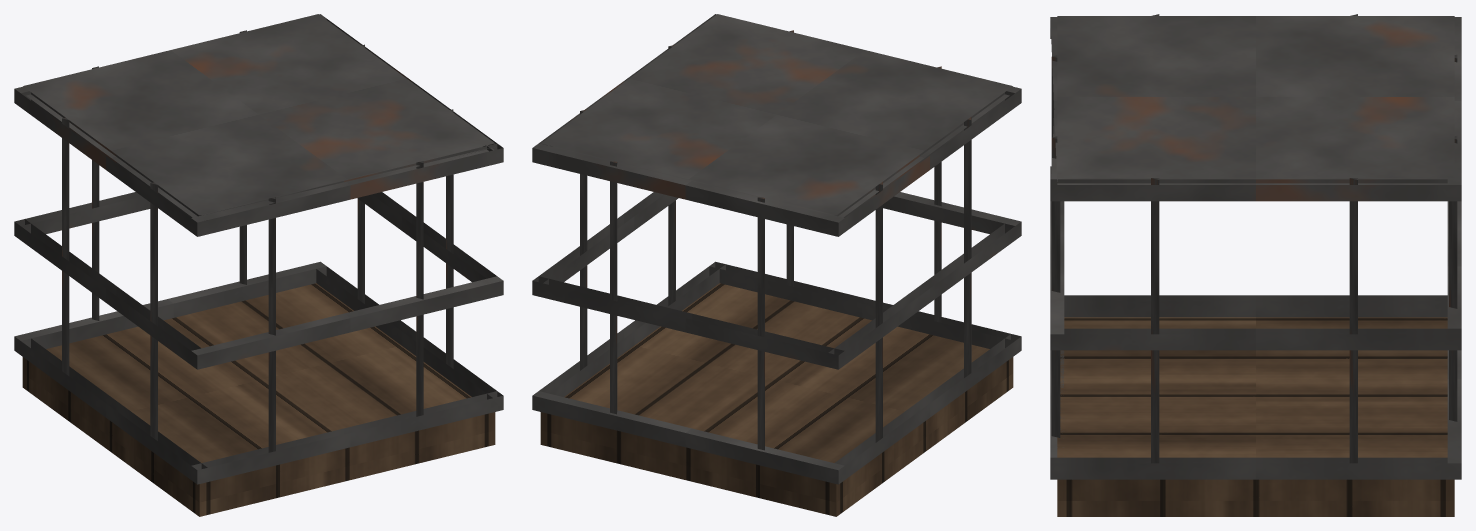
Rendered from Cage_Small_LOD2.gltf.
3 renders of one model, left to right at view 1: azimuth 30°, elevation 25°; view 2: azimuth 150°, elevation 25°; view 3: azimuth 270°, elevation 25°, orthographic. The views are drawn at different scales.
Parts seen in each view (by area): view 1: Cage_Small_LOD2; view 2: Cage_Small_LOD2; view 3: Cage_Small_LOD2.
Part boxes in pixels (box(x1,y1,x2,y2)): Cage_Small_LOD2: box(14, 14, 503, 516); Cage_Small_LOD2: box(532, 14, 1021, 516); Cage_Small_LOD2: box(1050, 14, 1461, 516).
Bounding box in the file's own units: 0.85 × 0.8 × 0.88.
Materials: 2 (2 with a texture image).
